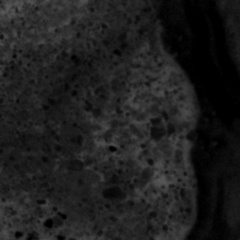Vegetation: (89, 68, 184, 193), (1, 1, 77, 47), (2, 196, 54, 239), (148, 189, 191, 237)
